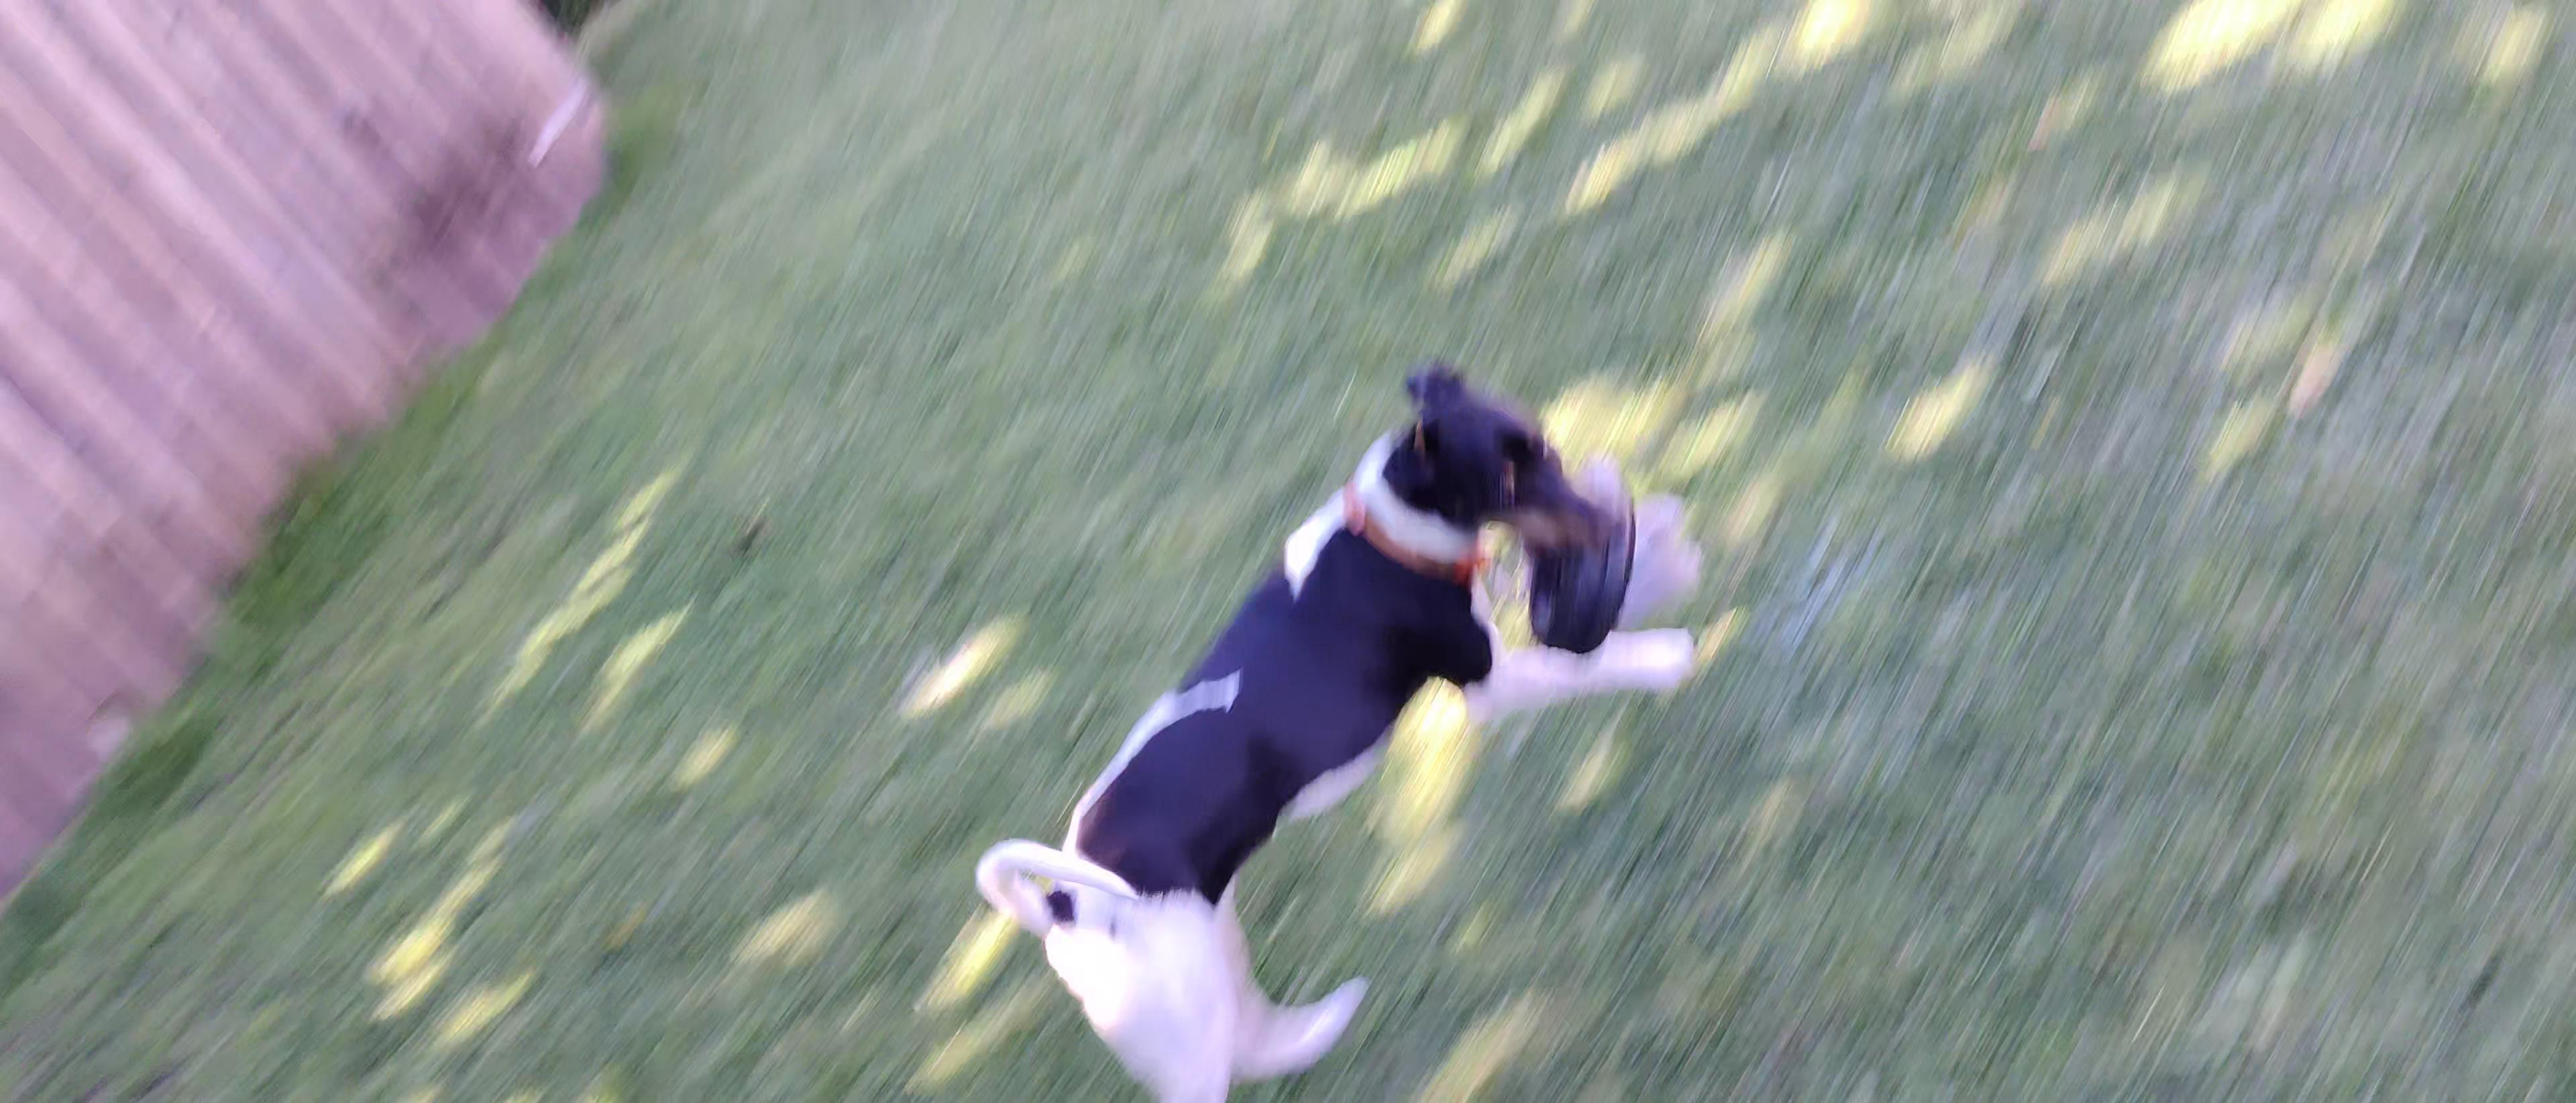Dog: (969, 347, 1717, 1103)
